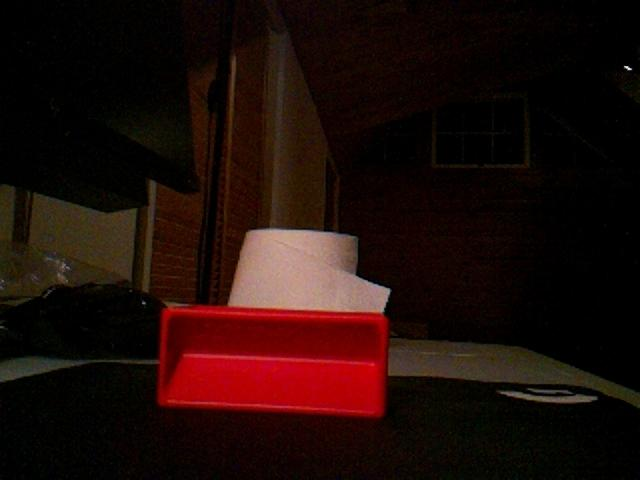red: (156, 304, 391, 420)
